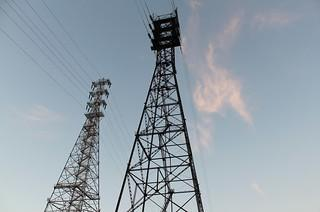power_tower: (116, 9, 206, 212), (41, 76, 115, 212)
